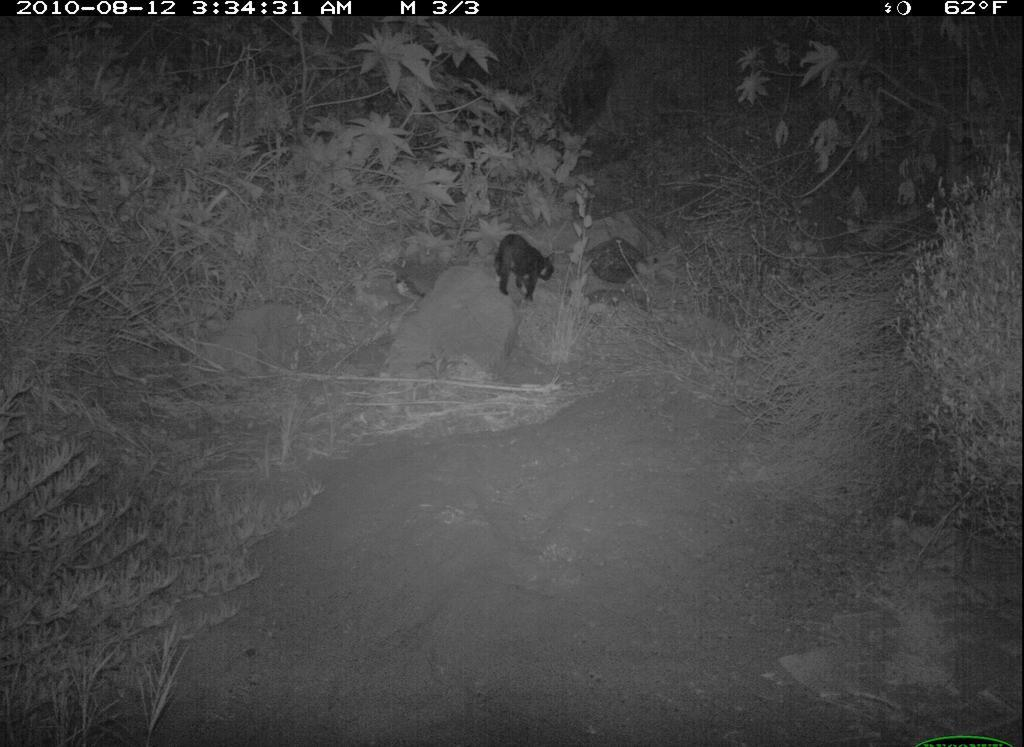cat: (495, 231, 559, 306)
